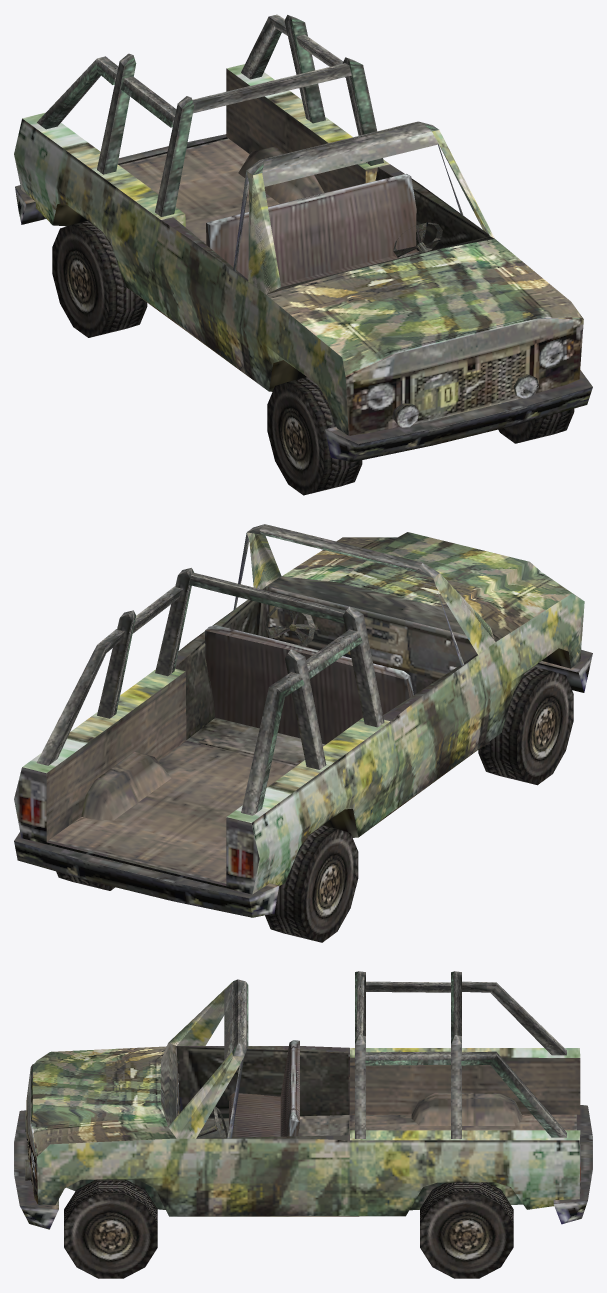
Rendered from etek5p.glb.
The picture shows the model from 3 angles, top to bottom: view 1: azimuth 30°, elevation 25°; view 2: azimuth 150°, elevation 25°; view 3: azimuth 270°, elevation 25°; orthographic projection. The views are drawn at different scales.
Visible parts, largest first — view 1: _etek5p; view 2: _etek5p; view 3: _etek5p.
Boxes of the visible parts, bbox=[...] form: _etek5p: bbox=[14, 14, 592, 495]; _etek5p: bbox=[14, 524, 592, 942]; _etek5p: bbox=[14, 971, 592, 1278].
Size of the model in its own units: 2.43 by 2.49 by 5.82.
Materials: 2 (2 with a texture image).
